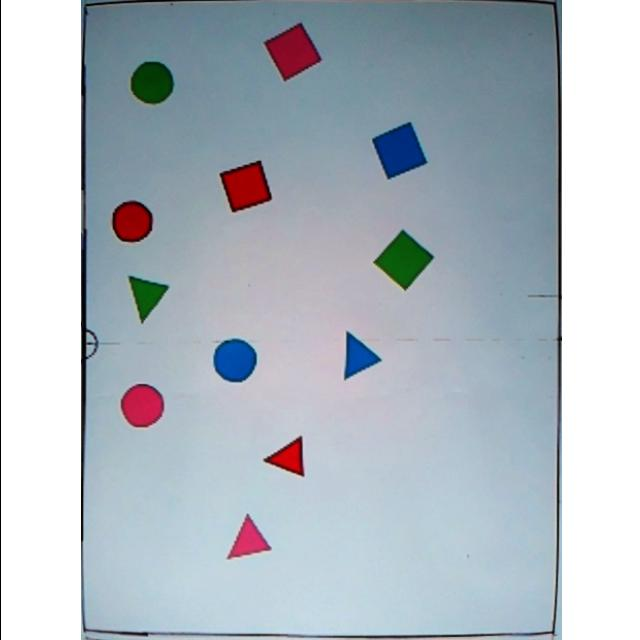blueCircle: (210, 338, 258, 384)
blueSquare: (368, 120, 428, 180)
blueTriangle: (341, 330, 382, 382)
greenCircle: (126, 61, 174, 106)
greenSquare: (370, 230, 434, 290)
greenTriangle: (124, 274, 168, 326)
pinkCircle: (118, 382, 162, 428)
pinkSquare: (261, 21, 321, 83)
pinkTriangle: (222, 512, 270, 564)
redCircle: (109, 200, 153, 244)
redSquare: (216, 159, 272, 215)
redTriangle: (260, 434, 306, 481)
